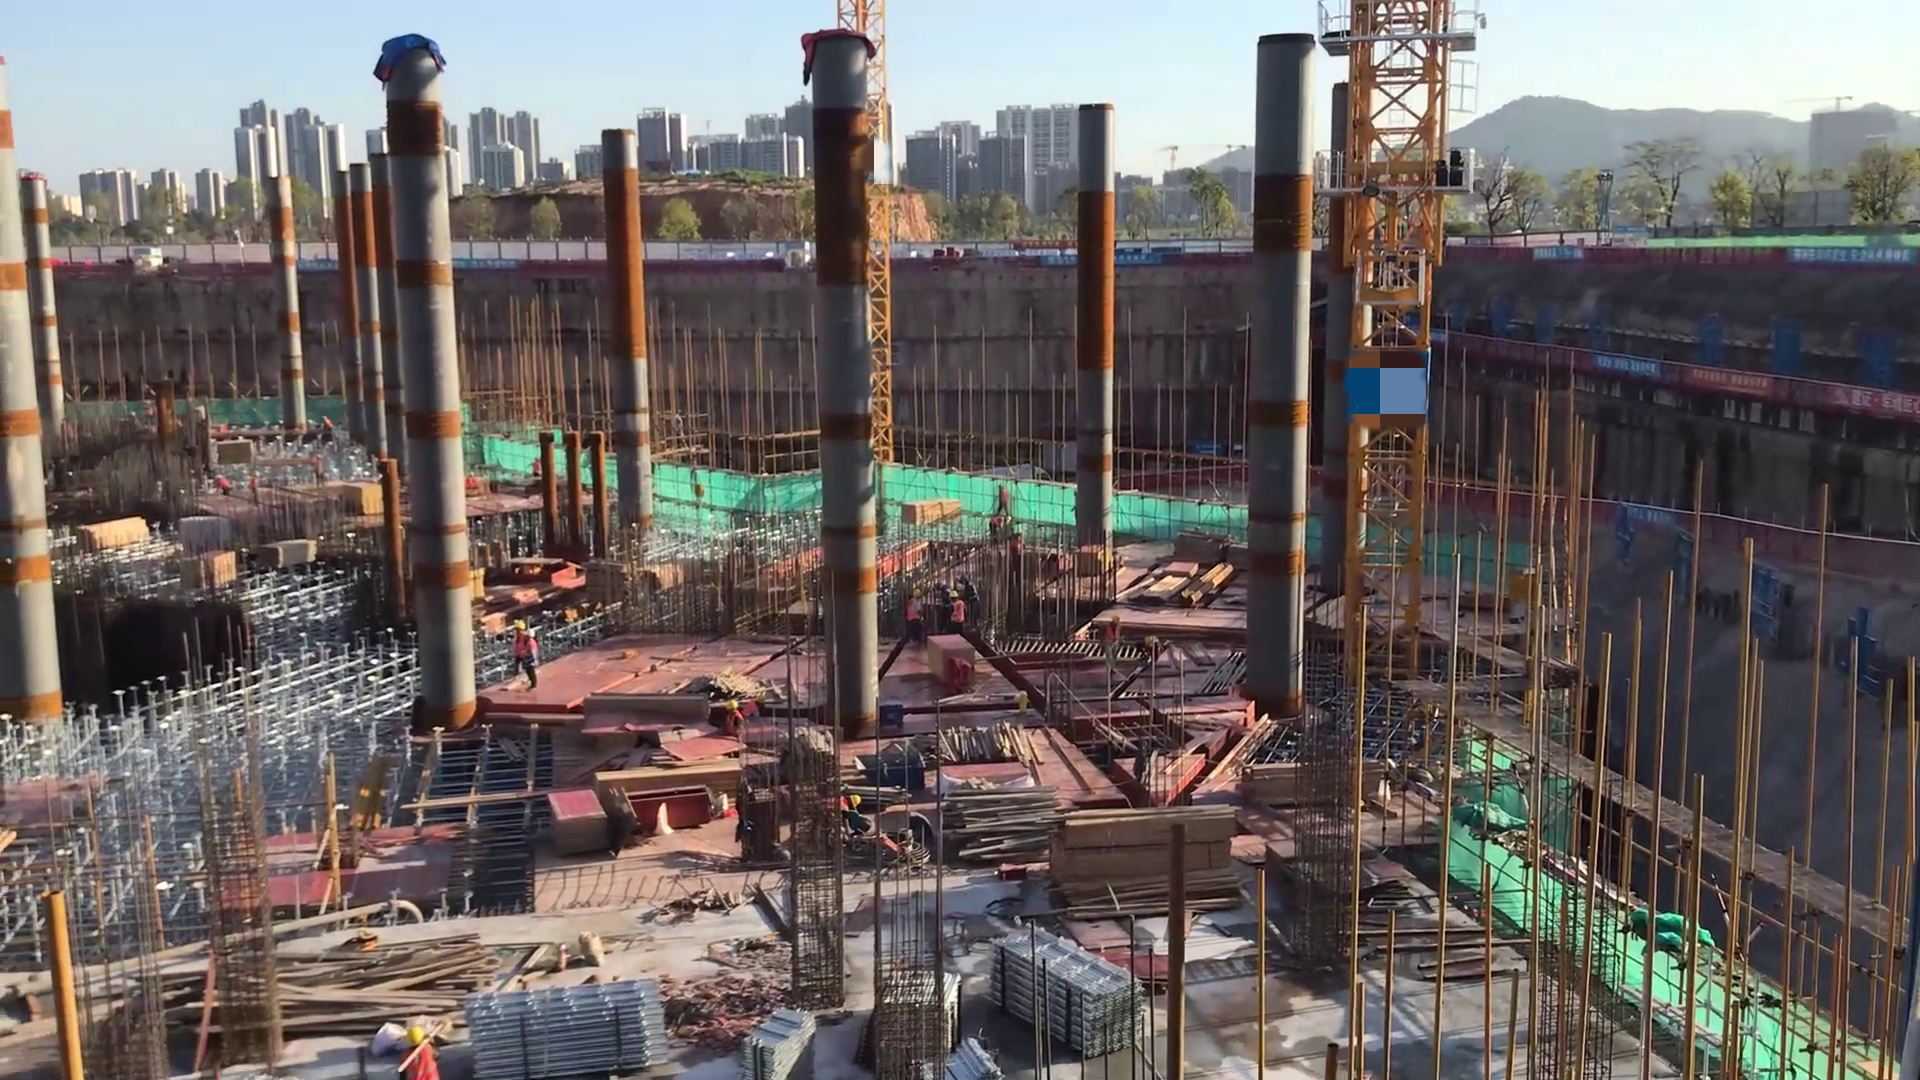board: (549, 788, 613, 856), (1098, 948, 1180, 1000), (338, 480, 380, 518)
helmet: (408, 1023, 428, 1047), (847, 792, 862, 811), (513, 619, 527, 633), (752, 694, 769, 706), (909, 588, 922, 602), (948, 588, 960, 604), (1109, 617, 1122, 629), (528, 627, 537, 642), (724, 701, 740, 711)
hook: (851, 745, 929, 794)
person: (395, 1021, 454, 1080), (820, 787, 865, 835), (945, 651, 981, 698), (1100, 614, 1122, 681), (905, 583, 929, 645), (721, 698, 746, 755), (523, 623, 543, 695), (943, 587, 972, 635), (1008, 526, 1029, 588), (511, 616, 526, 684), (984, 511, 1010, 545), (742, 692, 770, 721), (528, 453, 547, 485), (996, 477, 1012, 516), (212, 473, 231, 501), (465, 465, 481, 497), (248, 469, 262, 503)
scaffold: (990, 920, 1151, 1062), (468, 970, 670, 1065), (737, 1002, 821, 1080), (920, 1038, 1001, 1080)
slogan: (1827, 382, 1920, 424), (1786, 245, 1913, 271), (1685, 366, 1772, 403), (1599, 356, 1665, 384), (1529, 241, 1589, 266), (451, 256, 520, 277), (1112, 250, 1160, 271), (1045, 252, 1084, 273), (292, 257, 339, 274)
vest: (403, 1042, 440, 1080), (725, 711, 745, 739), (1104, 624, 1121, 653), (950, 599, 967, 627), (906, 599, 923, 625), (526, 638, 540, 669)
wood: (1055, 797, 1243, 926), (279, 938, 491, 1044), (944, 777, 1061, 870), (593, 755, 747, 813), (1238, 757, 1383, 812), (897, 486, 962, 532), (80, 513, 151, 554), (251, 535, 329, 572)
